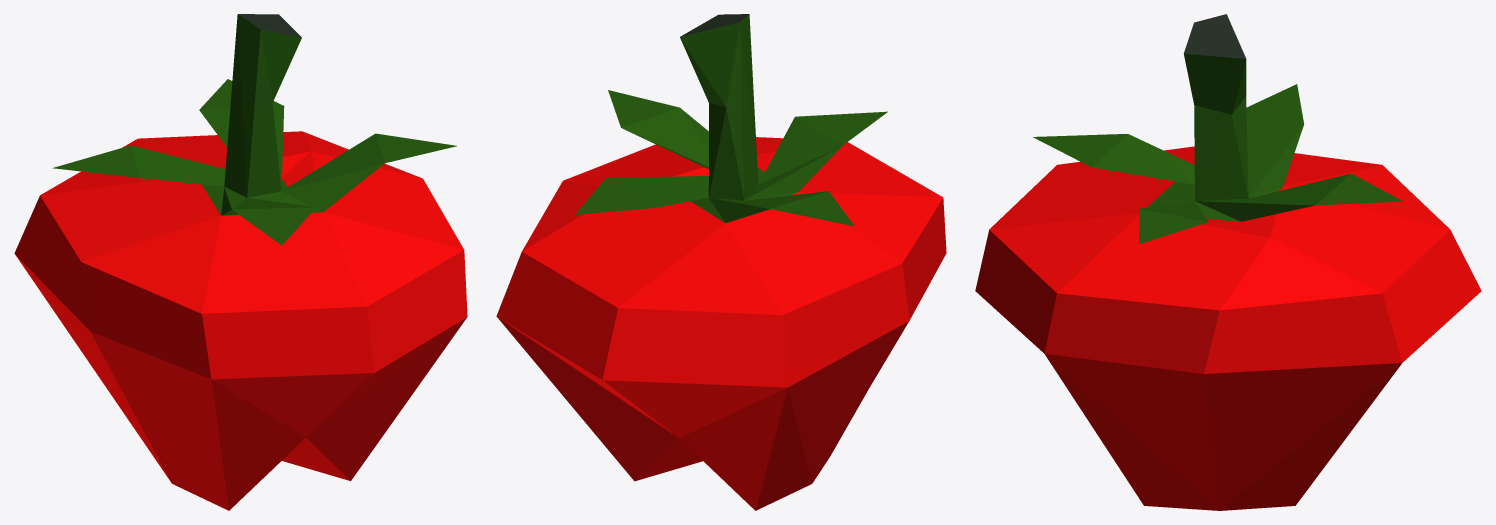
The model's file is Strawberry.fbx.
3 renders of one model, left to right at view 1: azimuth 30°, elevation 25°; view 2: azimuth 150°, elevation 25°; view 3: azimuth 270°, elevation 25°, orthographic.
Parts seen in each view (by area): view 1: Strawberry; view 2: Strawberry; view 3: Strawberry.
Part boxes in pixels (x1,y1,x2,y2): Strawberry: (14, 14, 467, 510); Strawberry: (496, 14, 946, 510); Strawberry: (975, 14, 1481, 510).
Size of the model in its own units: 3.54 by 4.5 by 4.52.
